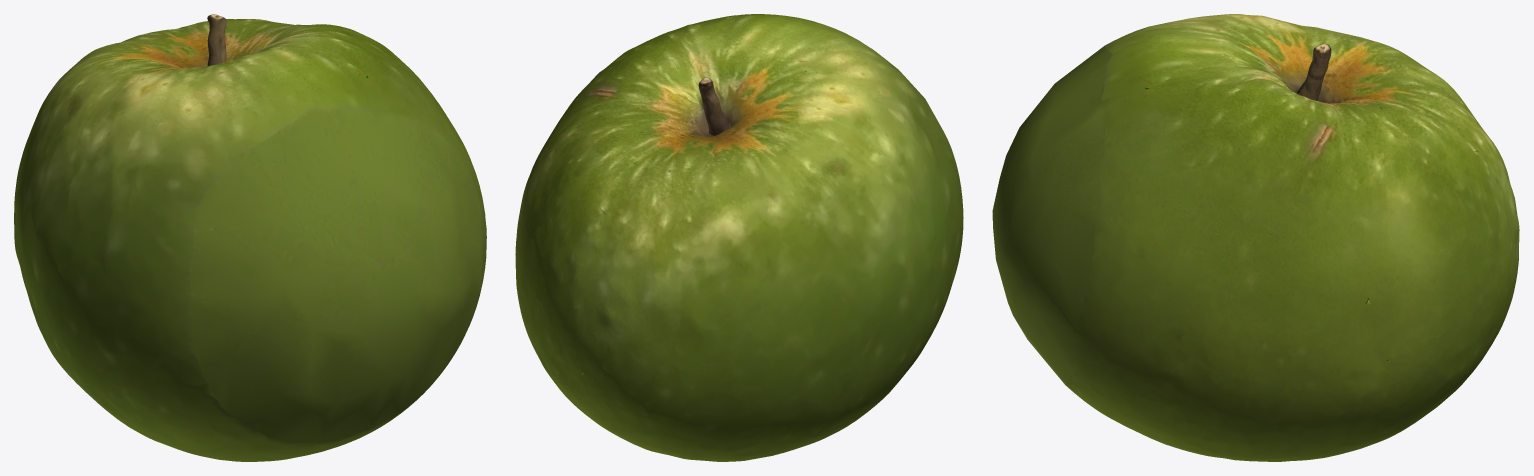
The model's file is kitchen-apple-02.glb.
3 views of the same model, side by side, from view 1: azimuth 30°, elevation 25°; view 2: azimuth 150°, elevation 25°; view 3: azimuth 270°, elevation 25° (orthographic). The views are drawn at different scales.
Visible parts, largest first — view 1: mesh_node; view 2: mesh_node; view 3: mesh_node.
Part boxes in pixels (box(x1,y1,x2,y2)): mesh_node: box(14, 14, 486, 461); mesh_node: box(515, 14, 963, 461); mesh_node: box(992, 14, 1519, 461).
Bounding box in the file's own units: 1.91 × 1.82 × 2.22.
1 material, 1 textured.
